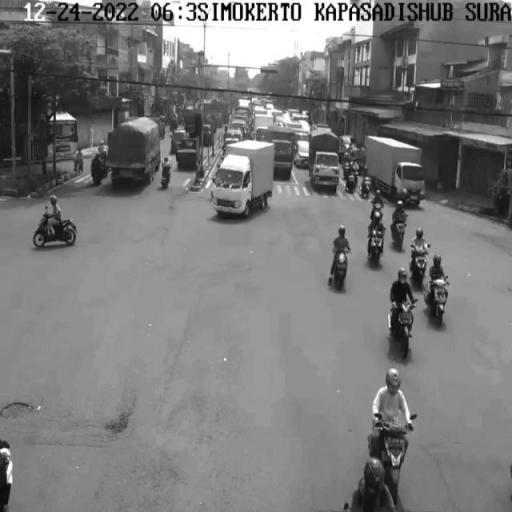motorcycle: (362, 409, 418, 498), (390, 298, 417, 360), (424, 276, 453, 330), (34, 214, 78, 247), (408, 242, 434, 286), (362, 230, 390, 270), (329, 248, 352, 288)
truck: (213, 137, 276, 221), (367, 134, 423, 208), (108, 117, 160, 188)
